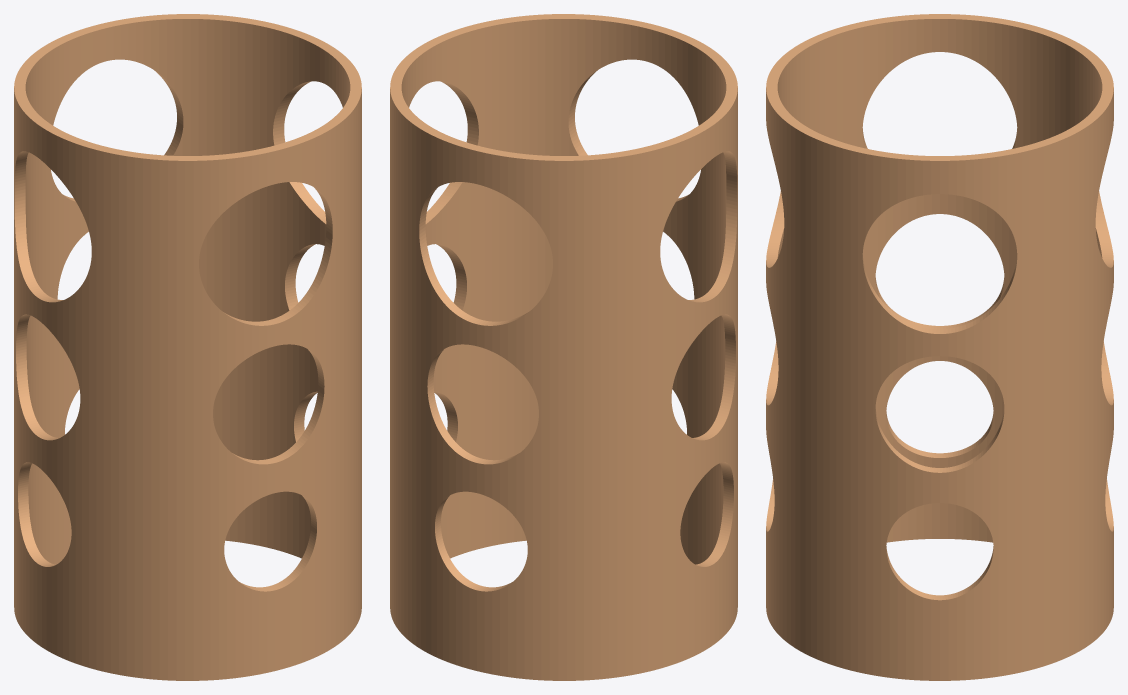
Rendered from cansat.glb.
The picture shows the model from 3 angles, left to right: view 1: azimuth 30°, elevation 25°; view 2: azimuth 150°, elevation 25°; view 3: azimuth 270°, elevation 25°; orthographic projection.
Parts seen in each view (by area): view 1: body; view 2: body; view 3: body.
Part boxes in pixels (x1,y1,x2,y2): body: [14, 14, 361, 680]; body: [390, 14, 737, 680]; body: [766, 14, 1113, 680].
Size of the model in its own units: 2 by 3.3 by 2.
